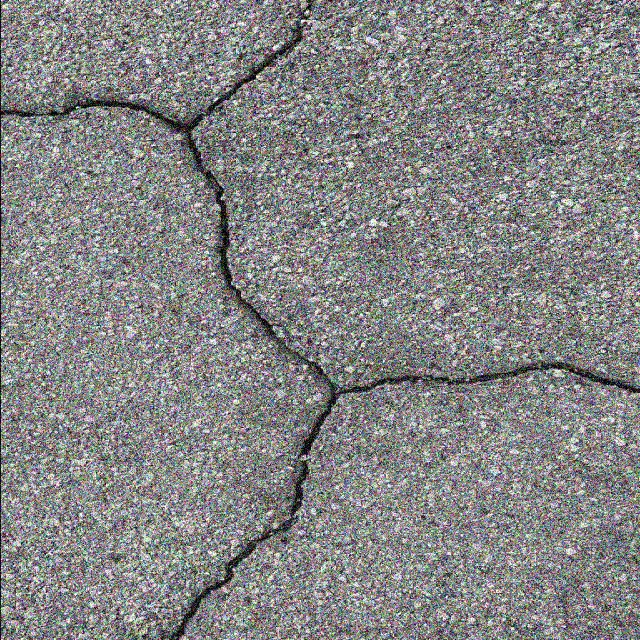SurfaceCrack: (105, 0, 638, 639)
